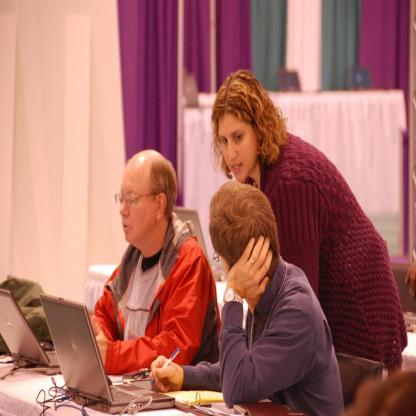board: (38, 292, 174, 416), (0, 287, 62, 375), (172, 205, 225, 283)
